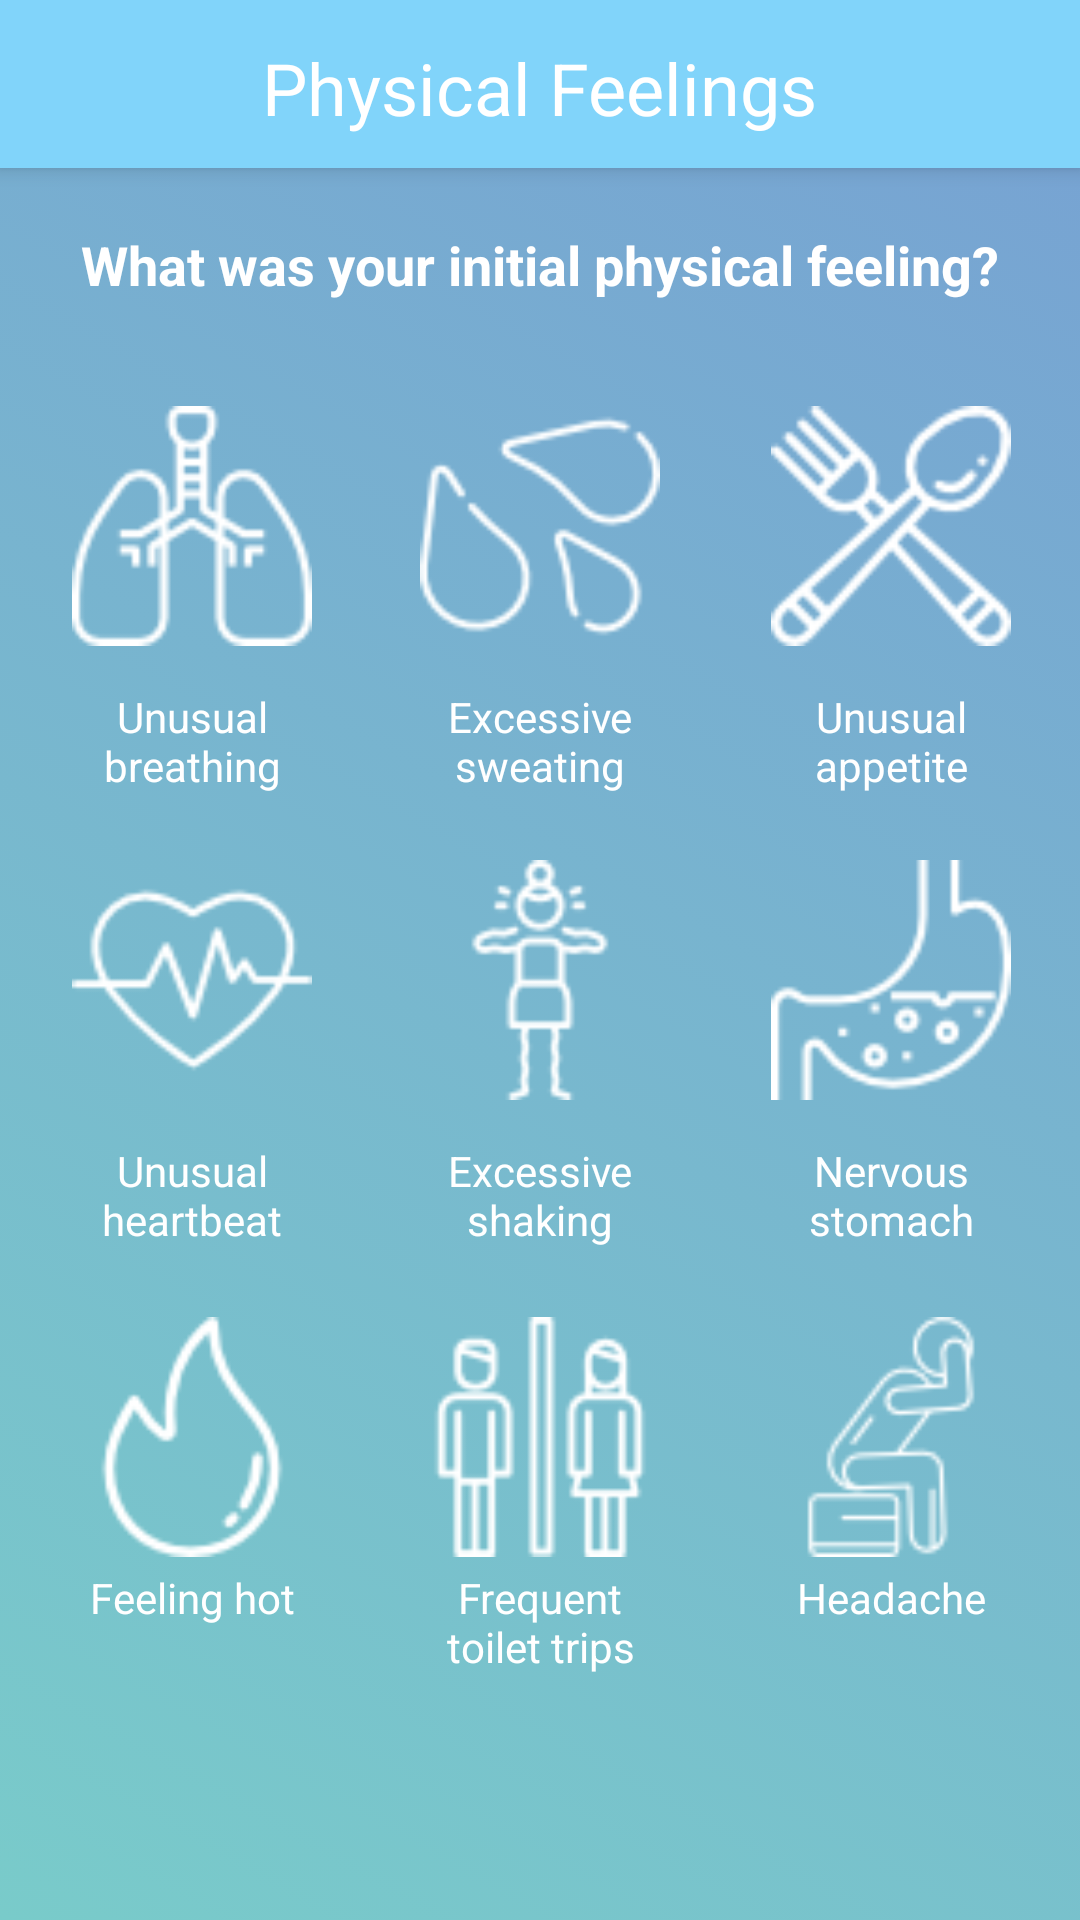

Locate icon controls on the screen. Image size 1080px×1920px, boxes as bbox=[x1, y1, x2, y2].
fire: bbox=[102, 1317, 282, 1557]
hunger: bbox=[771, 406, 1011, 646]
